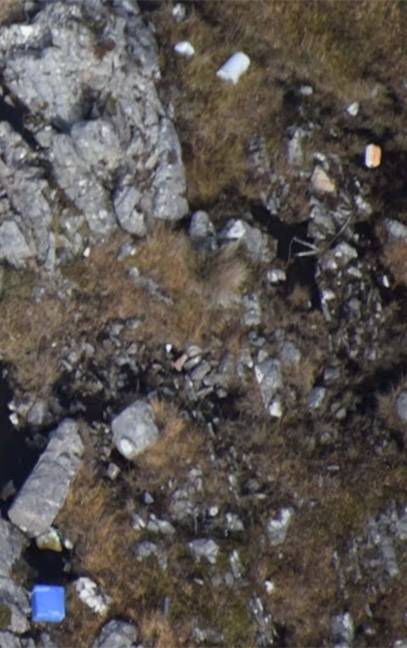scattered_barrel: (165, 30, 392, 200)
white_in_green: (1, 549, 101, 648)
